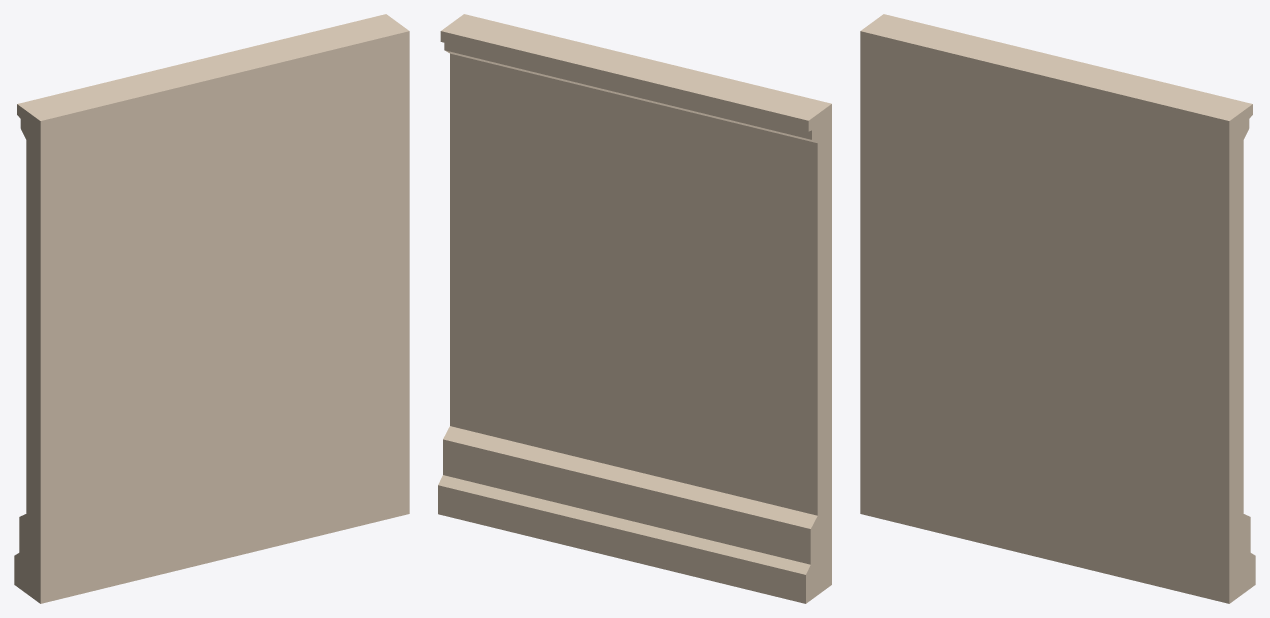
The model's file is BC_Wall_A.fbx.
3 renders of one model, left to right at view 1: azimuth 30°, elevation 25°; view 2: azimuth 150°, elevation 25°; view 3: azimuth 330°, elevation 25°, orthographic.
Parts seen in each view (by area): view 1: BC_Wall_A; view 2: BC_Wall_A; view 3: BC_Wall_A.
Boxes of the visible parts, x1,y1,x2,y2 form: BC_Wall_A: (14,14,409,603); BC_Wall_A: (438,14,831,603); BC_Wall_A: (860,14,1255,603).
Bounding box in the file's own units: 800 × 1000 × 98.27.
